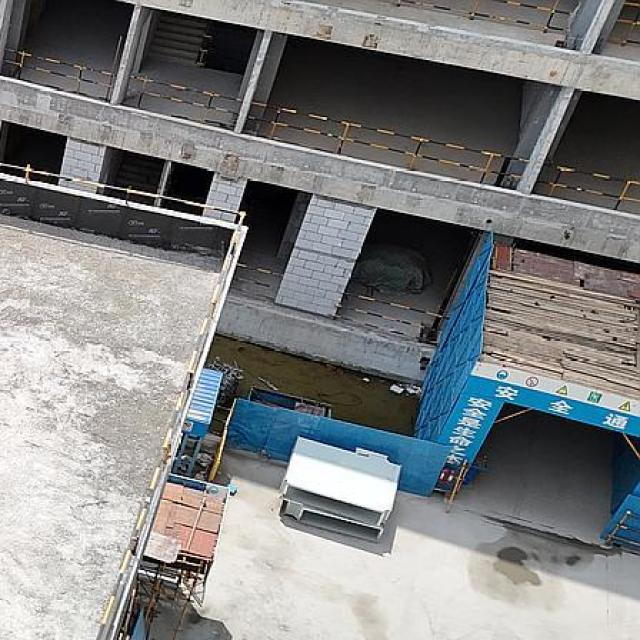Guardrail: (0, 161, 250, 640), (249, 99, 530, 185), (333, 292, 450, 344), (125, 75, 244, 125), (395, 0, 575, 33), (2, 46, 117, 94), (535, 161, 640, 211), (228, 262, 286, 301), (607, 2, 640, 47)
